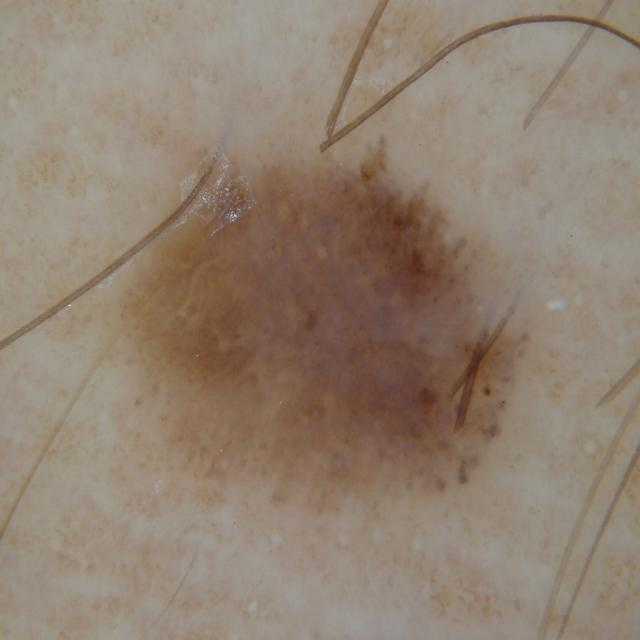Skin-Cancer Melanoma: (66, 118, 575, 591)
